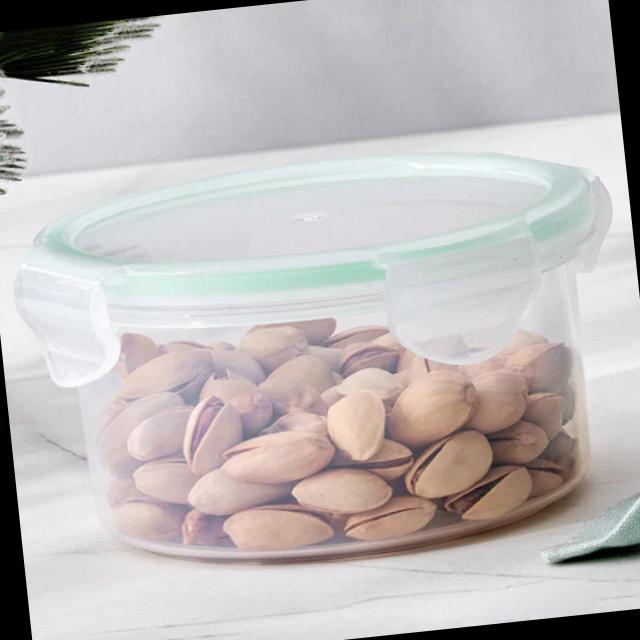plastic_box: (22, 120, 640, 572)
